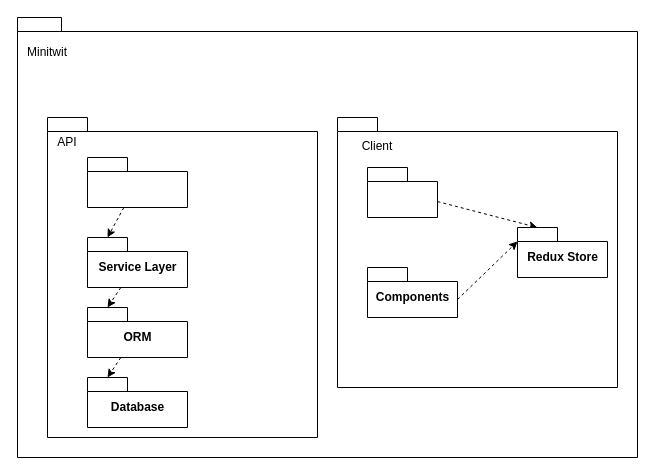
Image size: 655x475. Some labels were removed from this diagram. Here are the shapes that lost their labels. From the top down, the centre of each, then its label:
At (137,182): "Handlers".
At (402,192): "Pages".
